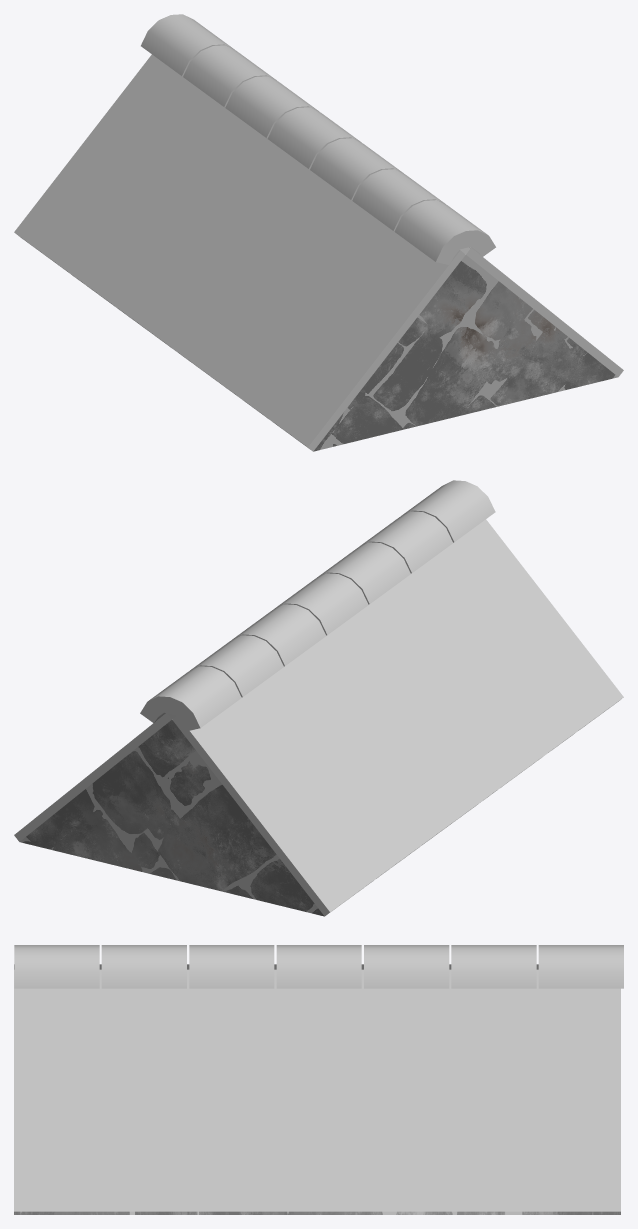
Rendered from Roof_Top_02.fbx.
3 views of the same model, one above another, from view 1: azimuth 30°, elevation 25°; view 2: azimuth 150°, elevation 25°; view 3: azimuth 270°, elevation 25° (orthographic). The views are drawn at different scales.
Parts seen in each view (by area): view 1: Plane.055, Plane.052; view 2: Plane.055, Plane.052; view 3: Plane.055, Plane.052.
Boxes of the visible parts, left/top/right/bottom form: Plane.055: left=14, top=14, right=623, bottom=451; Plane.052: left=20, top=237, right=618, bottom=451; Plane.055: left=14, top=480, right=623, bottom=916; Plane.052: left=20, top=701, right=618, bottom=916; Plane.055: left=14, top=945, right=623, bottom=1211; Plane.052: left=14, top=1211, right=620, bottom=1214.
Bounding box in the file's own units: 3.11 × 1.72 × 5.03.
